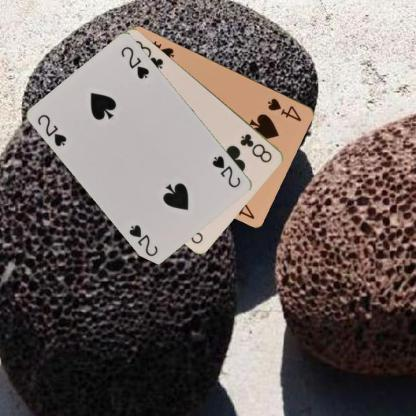2s: (209, 152, 242, 190), (35, 111, 68, 148)
4s: (266, 96, 303, 122)
8c: (237, 131, 274, 164)
